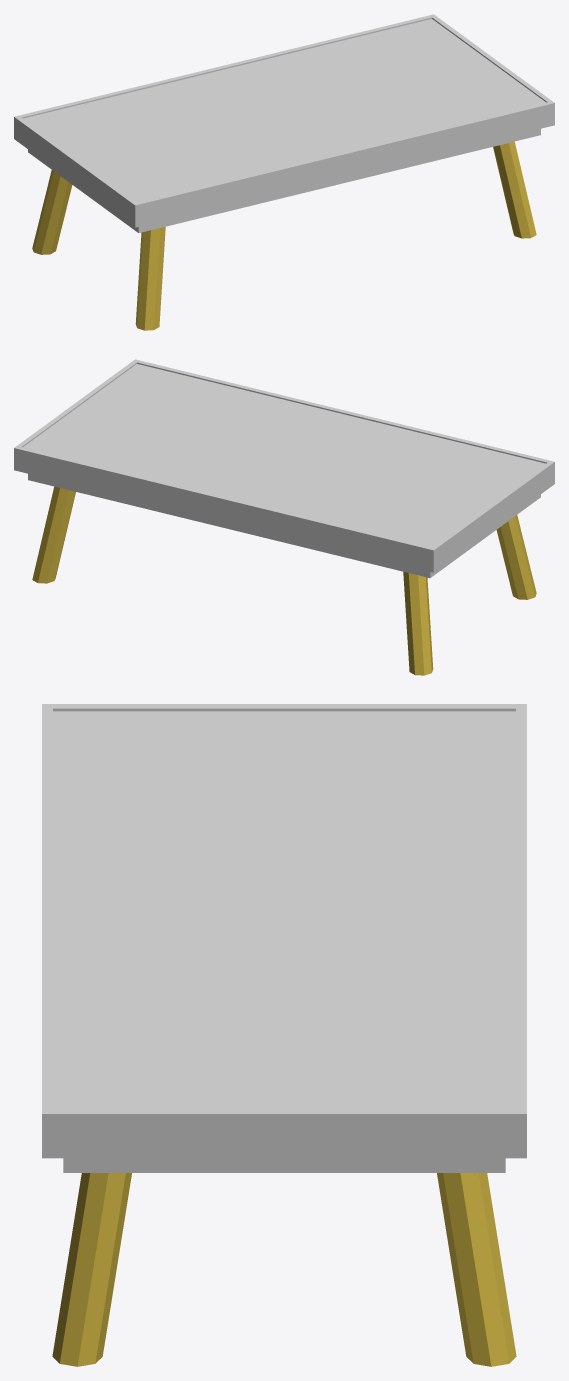
Rendered from Prop_Table_11.fbx.
3 renders of one model, top to bottom at view 1: azimuth 30°, elevation 25°; view 2: azimuth 150°, elevation 25°; view 3: azimuth 270°, elevation 25°, orthographic. The views are drawn at different scales.
Parts seen in each view (by area): view 1: Prop_Table_11; view 2: Prop_Table_11; view 3: Prop_Table_11.
Part boxes in pixels (x1,y1,x2,y2): Prop_Table_11: (14,14,554,330); Prop_Table_11: (14,359,554,675); Prop_Table_11: (42,704,526,1366).
Bounding box in the file's own units: 200 × 60 × 100.
